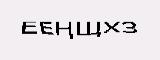Е: (19, 18, 39, 35), (39, 18, 54, 38)
З: (121, 16, 138, 35)
Х: (102, 14, 120, 37)
Щ: (77, 15, 102, 38)
Ң: (55, 18, 76, 39)
